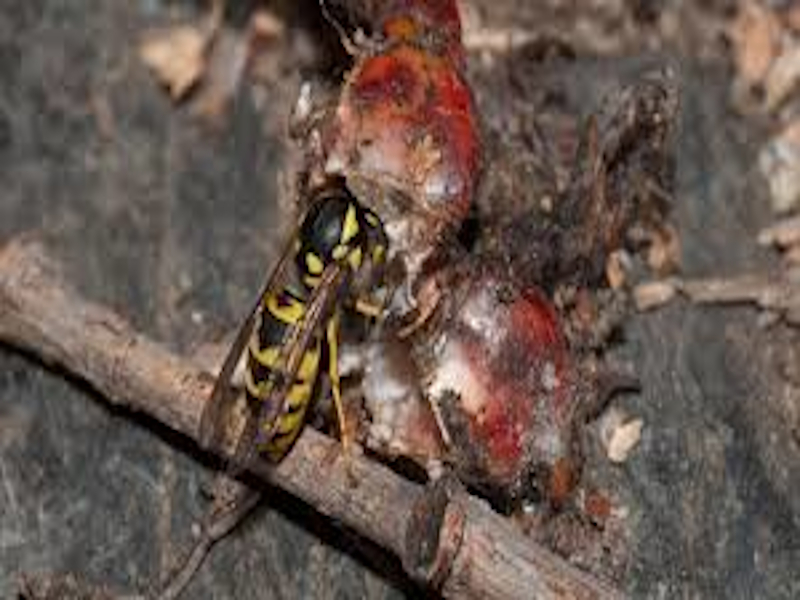chax: (203, 175, 394, 483)
